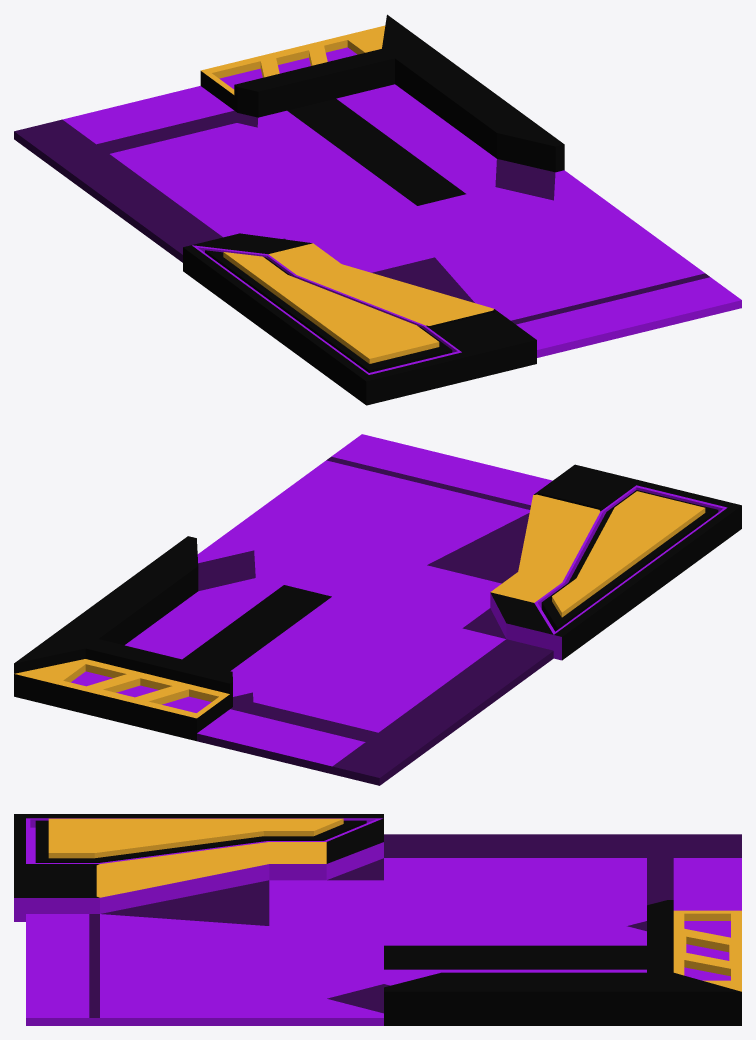
File: tarjeta.fbx
The picture shows the model from 3 angles, top to bottom: view 1: azimuth 30°, elevation 25°; view 2: azimuth 150°, elevation 25°; view 3: azimuth 270°, elevation 25°; orthographic projection. The views are drawn at different scales.
Parts seen in each view (by area): view 1: Cube; view 2: Cube; view 3: Cube.
Boxes of the visible parts, x1=… form: Cube: x1=14, y1=14, x2=741, y2=405; Cube: x1=14, y1=434, x2=741, y2=785; Cube: x1=14, y1=814, x2=741, y2=1025.
Size of the model in its own units: 21.63 by 1.83 by 35.44.
